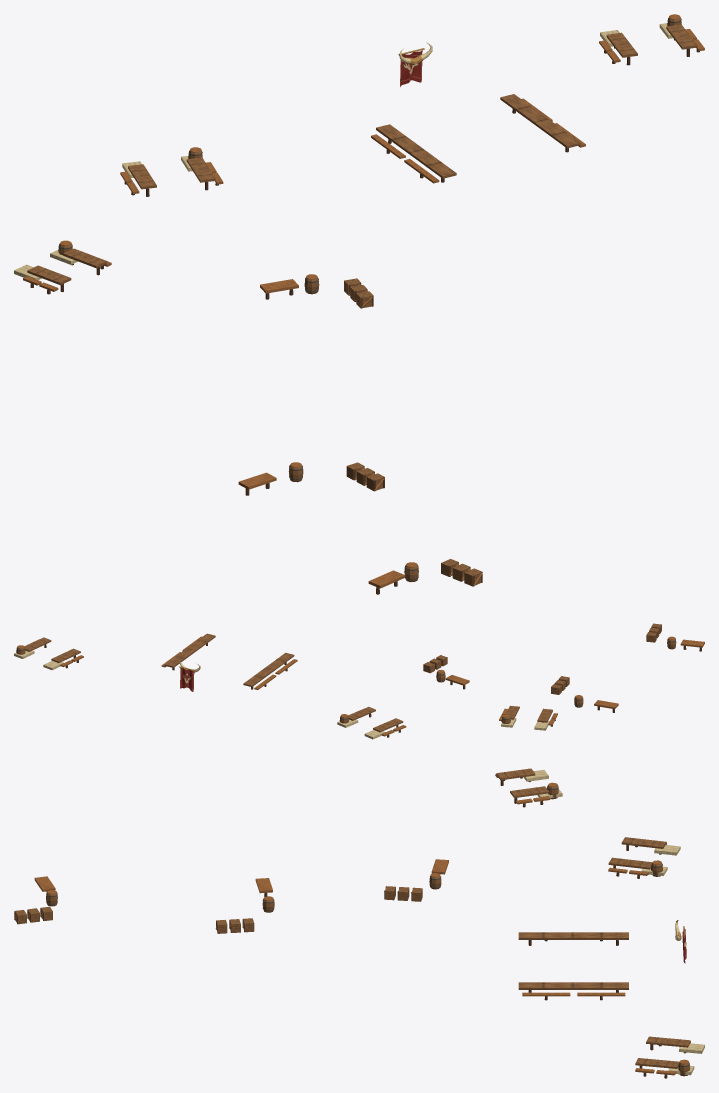
Rendered from phase_2_inside.glb.
3 views of the same model, one above another, from view 1: azimuth 30°, elevation 25°; view 2: azimuth 150°, elevation 25°; view 3: azimuth 270°, elevation 25° (orthographic). The views are drawn at different scales.
Visible parts, largest first — view 1: hall_interior_F2, house_b_interior_F2, house_c_interior_F2, house_a_interior_F2, workshop_interior_F2, forge_interior_F2, store_interior_F2; view 2: hall_interior_F2, house_a_interior_F2, house_c_interior_F2, house_b_interior_F2, store_interior_F2, forge_interior_F2, workshop_interior_F2; view 3: hall_interior_F2, house_a_interior_F2, house_c_interior_F2, house_b_interior_F2, workshop_interior_F2, forge_interior_F2, store_interior_F2.
Boxes of the visible parts, bbox=[...] form: hall_interior_F2: bbox=[371, 42, 585, 183]; house_b_interior_F2: bbox=[14, 240, 111, 294]; house_c_interior_F2: bbox=[599, 14, 704, 65]; house_a_interior_F2: bbox=[120, 147, 223, 196]; workshop_interior_F2: bbox=[368, 559, 482, 594]; forge_interior_F2: bbox=[238, 462, 384, 495]; store_interior_F2: bbox=[260, 274, 373, 308]; hall_interior_F2: bbox=[161, 633, 297, 691]; house_a_interior_F2: bbox=[337, 707, 406, 739]; house_c_interior_F2: bbox=[14, 637, 83, 670]; house_b_interior_F2: bbox=[499, 705, 557, 730]; store_interior_F2: bbox=[423, 655, 469, 689]; forge_interior_F2: bbox=[551, 676, 618, 712]; workshop_interior_F2: bbox=[646, 623, 704, 651]; hall_interior_F2: bbox=[518, 920, 686, 1000]; house_a_interior_F2: bbox=[608, 837, 680, 878]; house_c_interior_F2: bbox=[635, 1036, 704, 1078]; house_b_interior_F2: bbox=[495, 768, 562, 807]; workshop_interior_F2: bbox=[14, 876, 57, 924]; forge_interior_F2: bbox=[215, 878, 274, 933]; store_interior_F2: bbox=[384, 859, 448, 901].
Bounding box in the file's own units: 56.42 × 11.59 × 54.18.
Materials: 1 (1 with a texture image).
